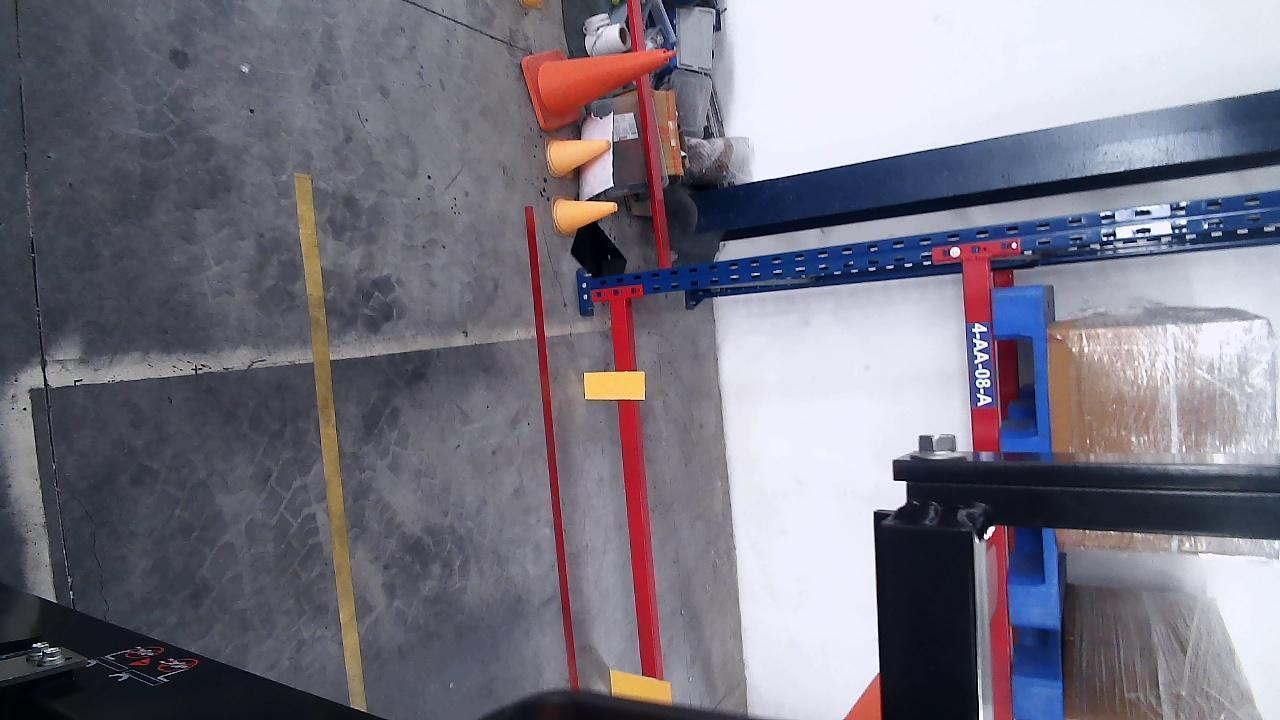red_line: (523, 206, 580, 689)
yellow_line: (291, 170, 368, 712)
